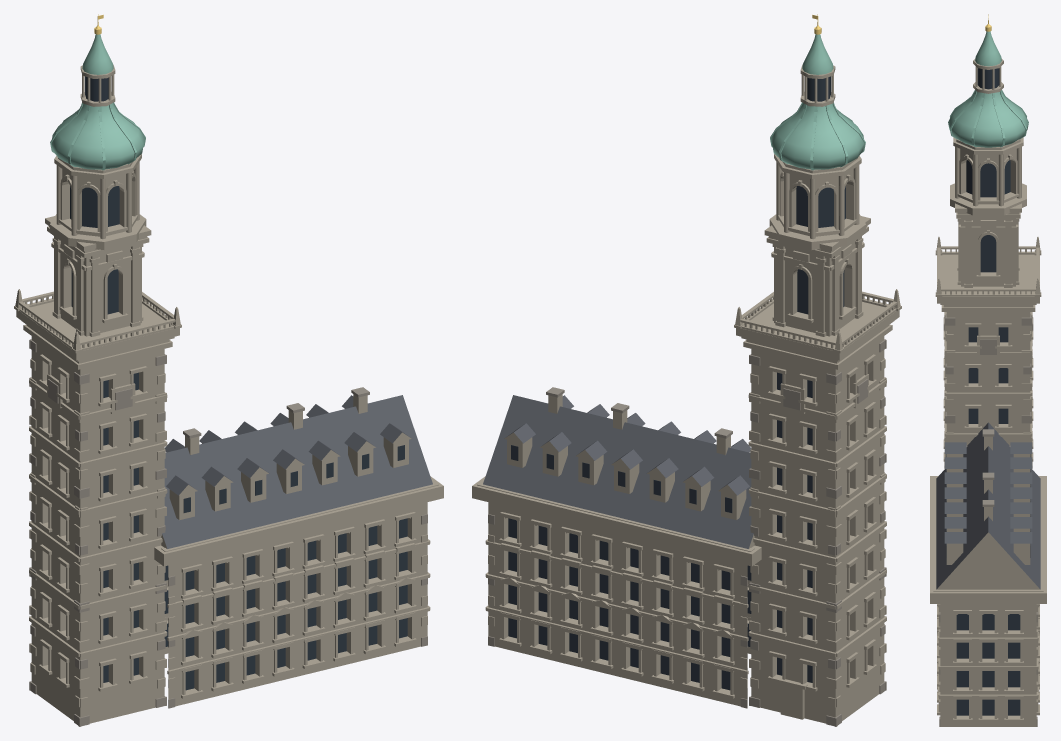
The model's file is hausmannsturm.glb.
3 views of the same model, side by side, from view 1: azimuth 30°, elevation 25°; view 2: azimuth 150°, elevation 25°; view 3: azimuth 270°, elevation 25° (orthographic). The views are drawn at different scales.
Parts seen in each view (by area): view 1: hausmannsturm; view 2: hausmannsturm; view 3: hausmannsturm.
Part boxes in pixels (box(x1,y1,x2,y2)): hausmannsturm: box(14, 14, 443, 726); hausmannsturm: box(472, 14, 901, 726); hausmannsturm: box(930, 14, 1046, 726).
Size of the model in its own units: 56.32 by 101 by 18.2.
